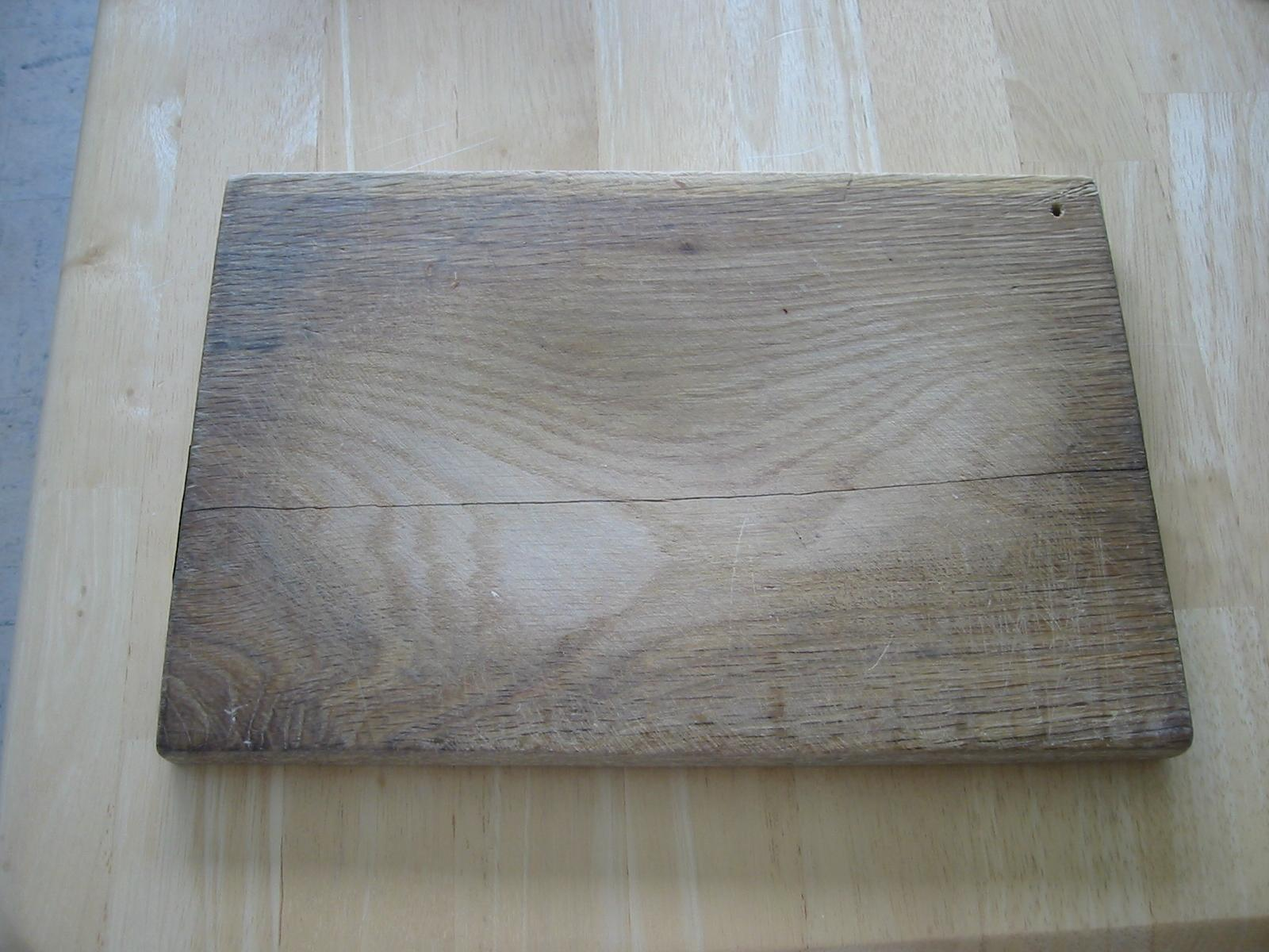gloved_hand: (139, 163, 1211, 785)
